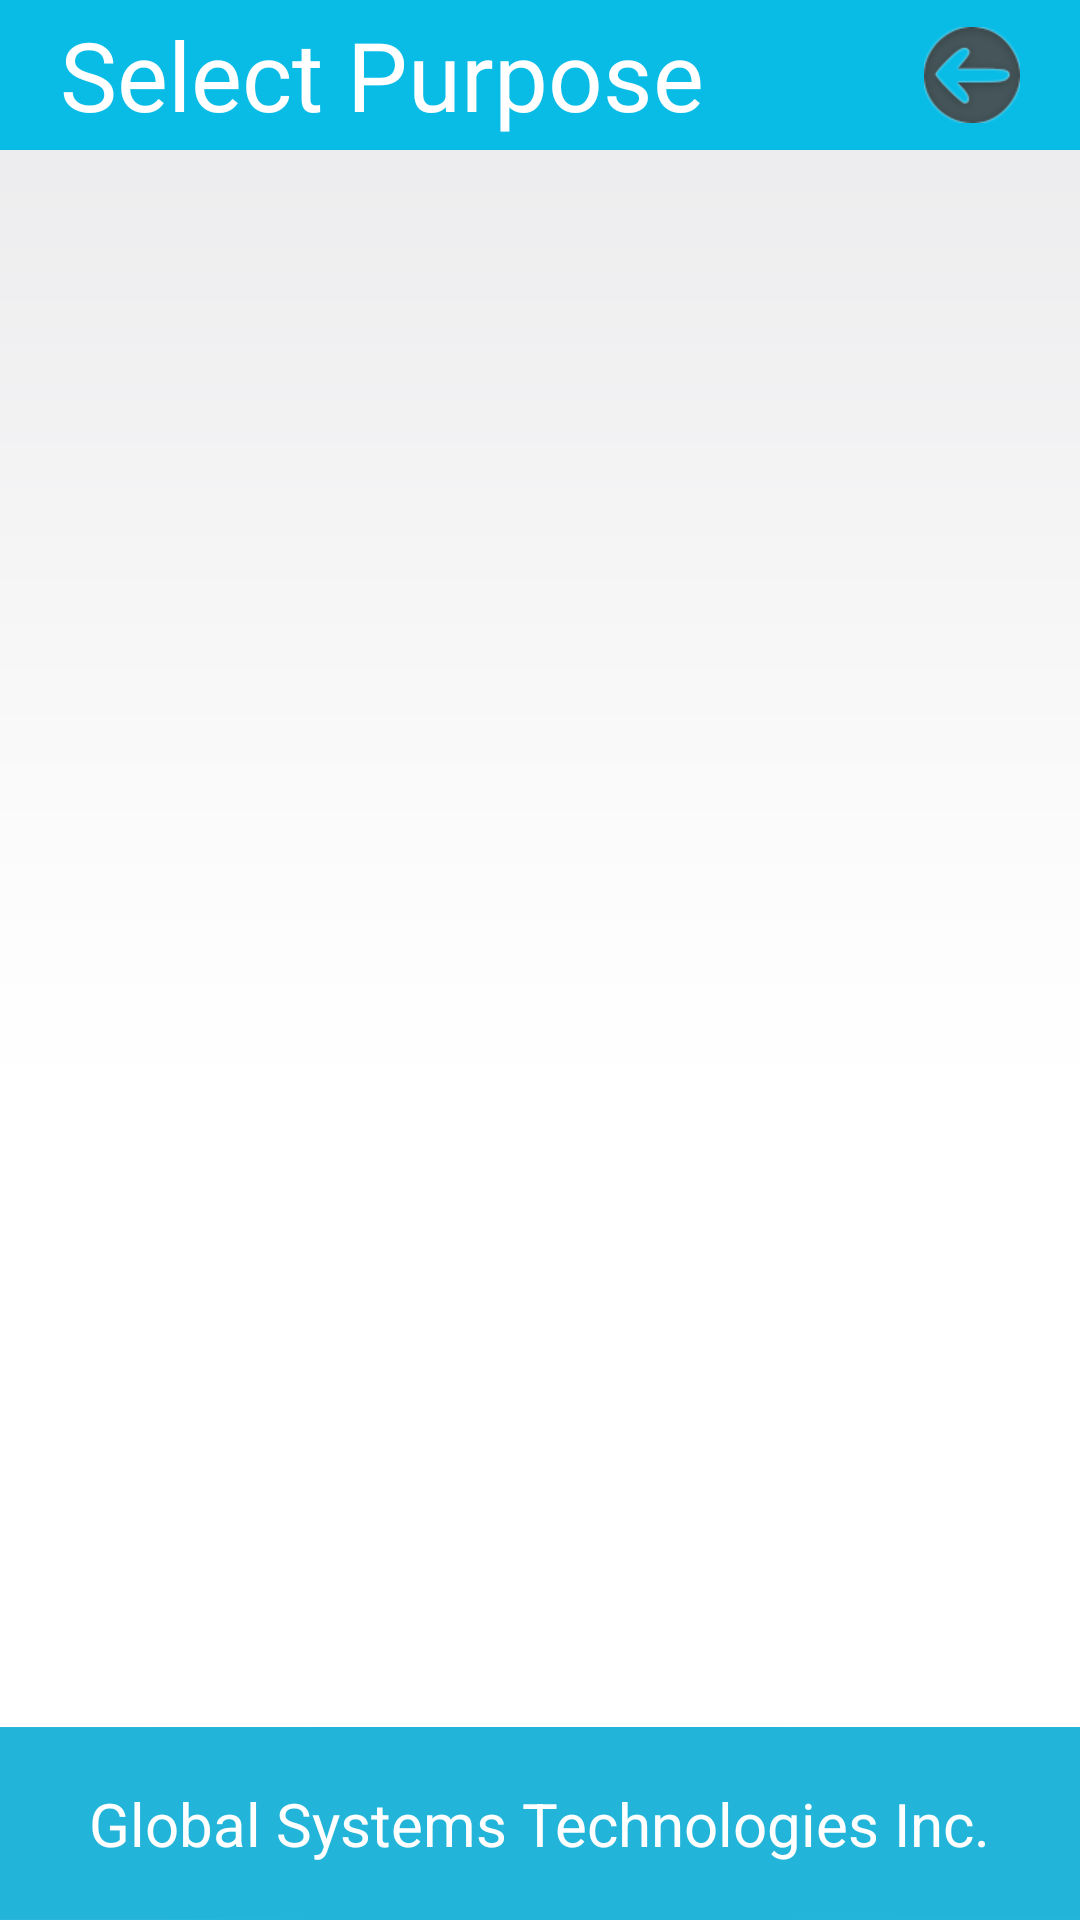

Locate icon controls on the screen. Image size 1080 x 1920, boxes as (x1, y1, x2, y2).
left arrow: (924, 27, 1020, 123)
